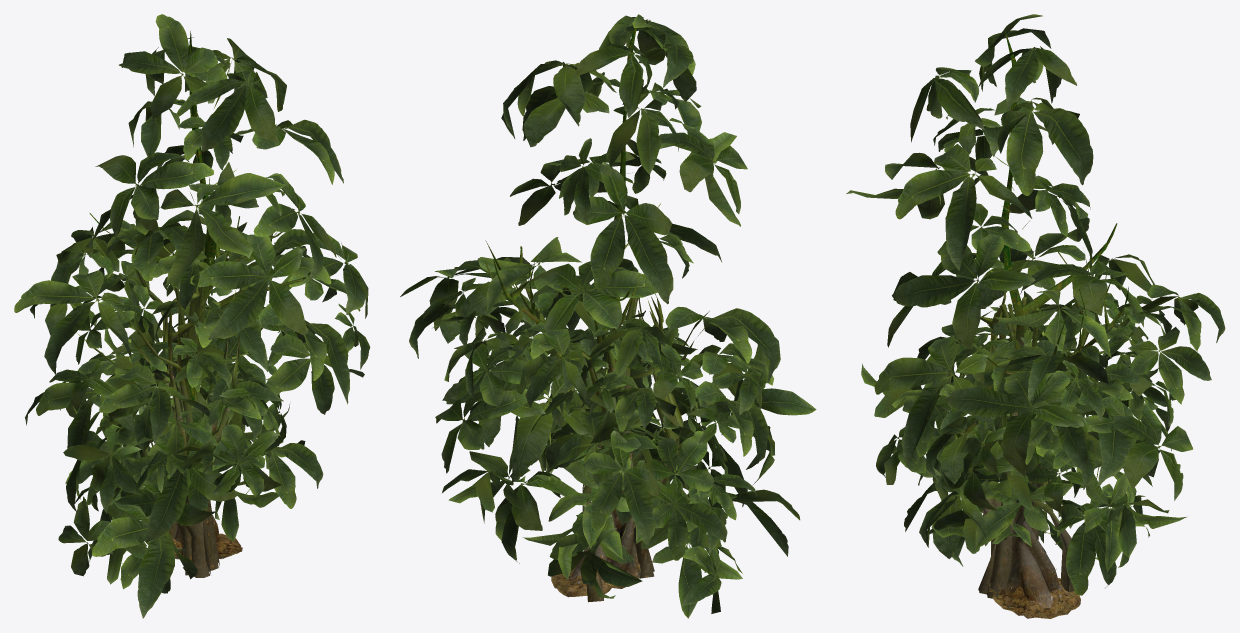
File: pachira_aquatica_01_LOD1.fbx
The picture shows the model from 3 angles, left to right: view 1: azimuth 30°, elevation 25°; view 2: azimuth 150°, elevation 25°; view 3: azimuth 270°, elevation 25°; orthographic projection. The views are drawn at different scales.
Parts seen in each view (by area): view 1: pachira_aquatica_01_leaves_d.002, pachira_aquatica_01_leaves_c.002, pachira_aquatica_01_leaves_a.002, pachira_aquatica_01_bark_d.002, pachira_aquatica_01_leaves_b.002, pachira_aquatica_01_bark_c.002, pachira_aquatica_01_bark_a.002; view 2: pachira_aquatica_01_leaves_d.002, pachira_aquatica_01_leaves_c.002, pachira_aquatica_01_leaves_a.002, pachira_aquatica_01_leaves_b.002, pachira_aquatica_01_bark_a.002, pachira_aquatica_01_bark_d.002, pachira_aquatica_01_bark_c.002; view 3: pachira_aquatica_01_leaves_d.002, pachira_aquatica_01_leaves_c.002, pachira_aquatica_01_leaves_a.002, pachira_aquatica_01_leaves_b.002, pachira_aquatica_01_bark_a.002, pachira_aquatica_01_bark_d.002, pachira_aquatica_01_bark_c.002, pachira_aquatica_01_bark_b.002.
Part boxes in pixels (x1=…): pachira_aquatica_01_leaves_d.002: x1=14, y1=14, x2=370, y2=593; pachira_aquatica_01_leaves_c.002: x1=25, y1=222, x2=360, y2=618; pachira_aquatica_01_leaves_a.002: x1=65, y1=301, x2=294, y2=584; pachira_aquatica_01_bark_d.002: x1=89, y1=31, x2=310, y2=575; pachira_aquatica_01_leaves_b.002: x1=122, y1=377, x2=323, y2=508; pachira_aquatica_01_bark_c.002: x1=125, y1=177, x2=277, y2=577; pachira_aquatica_01_bark_a.002: x1=172, y1=271, x2=242, y2=559; pachira_aquatica_01_leaves_d.002: x1=400, y1=14, x2=780, y2=573; pachira_aquatica_01_leaves_c.002: x1=409, y1=285, x2=816, y2=613; pachira_aquatica_01_leaves_a.002: x1=442, y1=320, x2=747, y2=618; pachira_aquatica_01_leaves_b.002: x1=495, y1=405, x2=694, y2=585; pachira_aquatica_01_bark_a.002: x1=551, y1=297, x2=640, y2=597; pachira_aquatica_01_bark_d.002: x1=485, y1=28, x2=706, y2=578; pachira_aquatica_01_bark_c.002: x1=484, y1=259, x2=709, y2=571; pachira_aquatica_01_leaves_d.002: x1=846, y1=14, x2=1225, y2=566; pachira_aquatica_01_leaves_c.002: x1=861, y1=293, x2=1211, y2=558; pachira_aquatica_01_leaves_a.002: x1=918, y1=340, x2=1158, y2=572; pachira_aquatica_01_leaves_b.002: x1=919, y1=415, x2=1149, y2=600; pachira_aquatica_01_bark_a.002: x1=989, y1=296, x2=1080, y2=618; pachira_aquatica_01_bark_d.002: x1=956, y1=29, x2=1117, y2=598; pachira_aquatica_01_bark_c.002: x1=941, y1=250, x2=1128, y2=594; pachira_aquatica_01_bark_b.002: x1=1007, y1=466, x2=1074, y2=591.
Size of the model in its own units: 1.05 by 1.65 by 0.9982.
2 materials, 2 textured.
